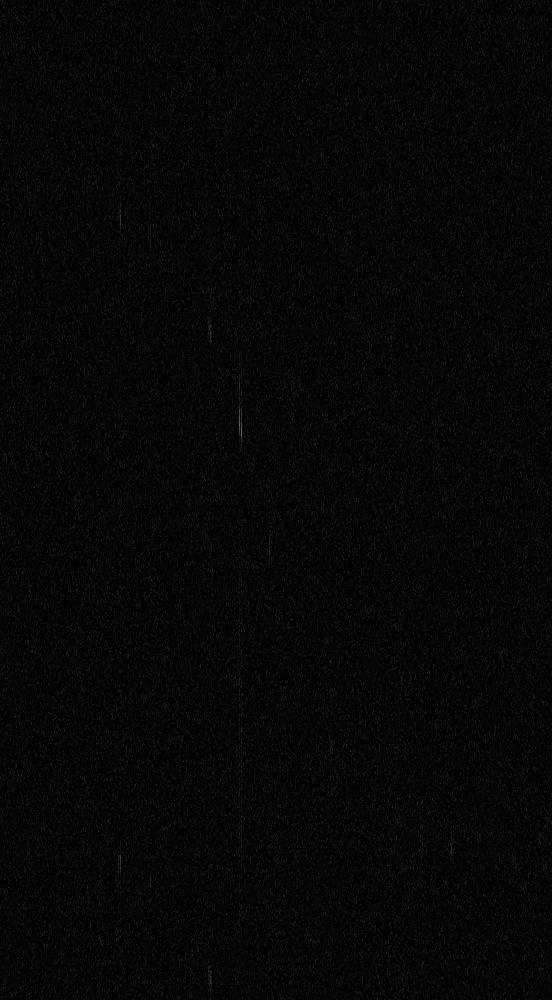signal: (0, 0, 551, 999)
